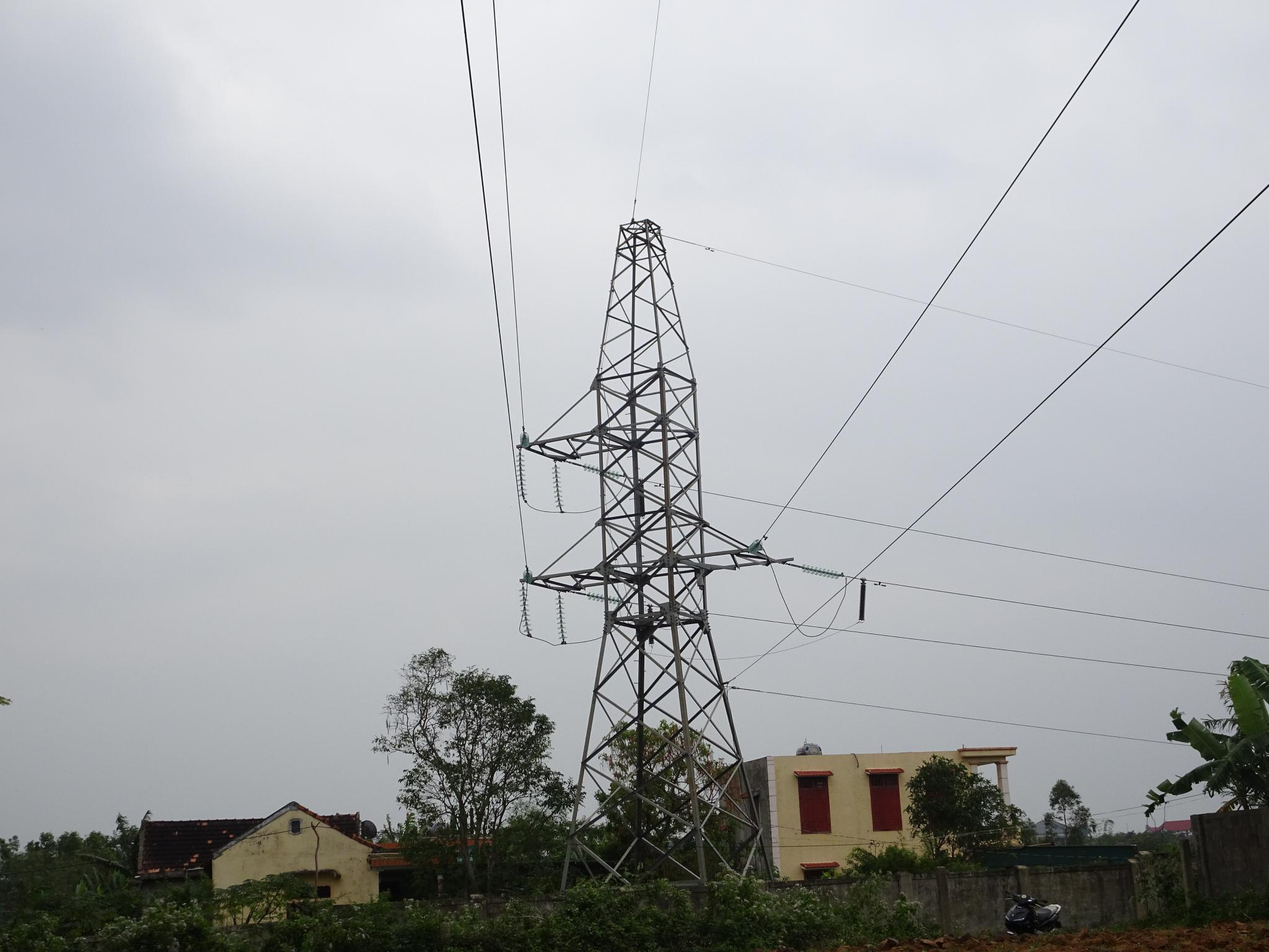tower: (515, 205, 804, 938)
